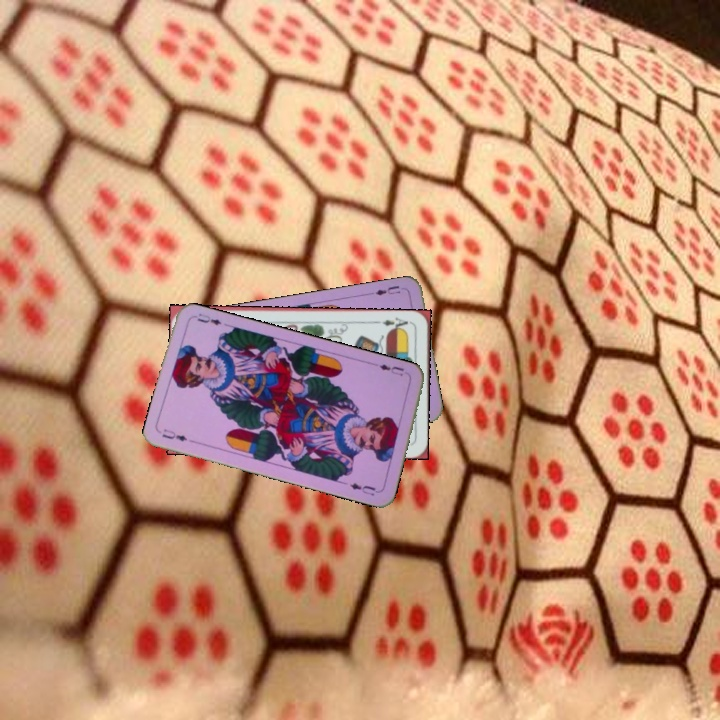EA: (378, 313, 414, 333)
EU: (375, 360, 411, 379), (158, 425, 189, 444), (371, 282, 403, 298)
